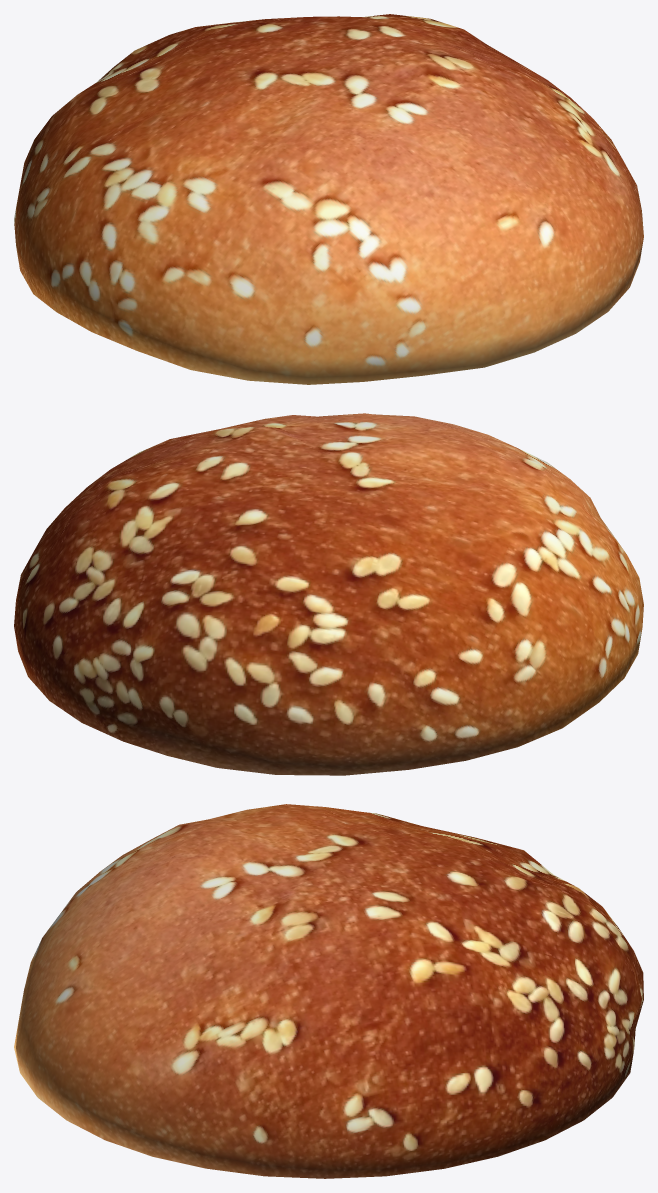
File: Burger_upper_bread_sesame.fbx
The picture shows the model from 3 angles, top to bottom: view 1: azimuth 30°, elevation 25°; view 2: azimuth 150°, elevation 25°; view 3: azimuth 270°, elevation 25°; orthographic projection.
Visible parts, largest first — view 1: upper_burger_bread; view 2: upper_burger_bread; view 3: upper_burger_bread.
Part boxes in pixels (left/top/right/bottom): upper_burger_bread: left=14, top=14, right=643, bottom=384; upper_burger_bread: left=14, top=413, right=643, bottom=775; upper_burger_bread: left=14, top=804, right=643, bottom=1178.
Bounding box in the file's own units: 60.46 × 19.71 × 60.14.
1 material, 1 textured.
